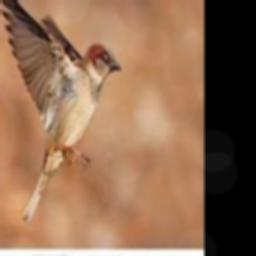Sparrow: (1, 0, 122, 221)
